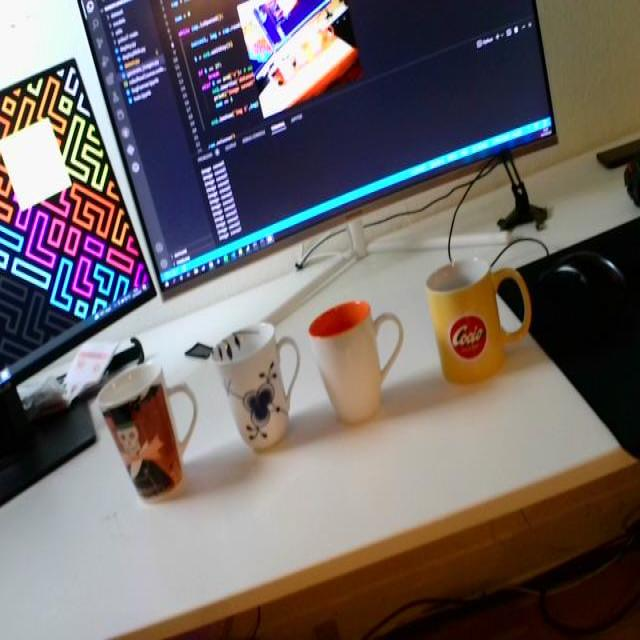cup: (423, 258, 542, 388), (92, 353, 194, 500), (310, 285, 398, 423), (211, 316, 300, 452)
